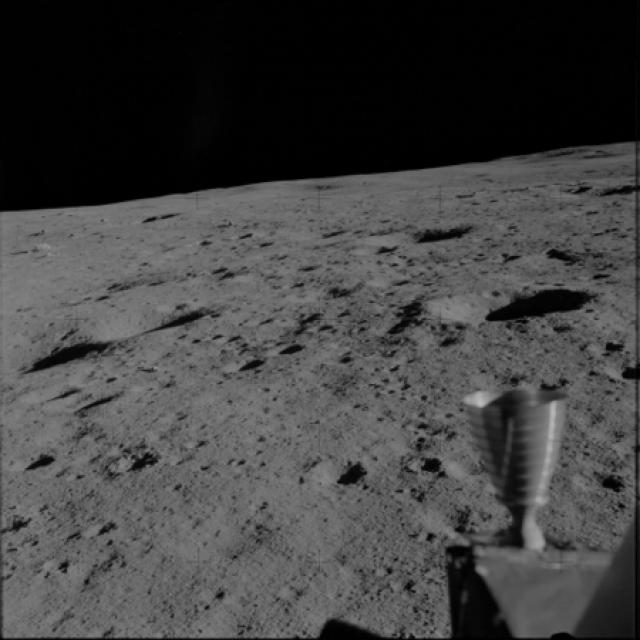crater: (0, 289, 239, 392), (426, 268, 616, 334), (276, 449, 378, 492), (358, 216, 494, 244), (0, 433, 65, 483), (101, 446, 182, 478)
